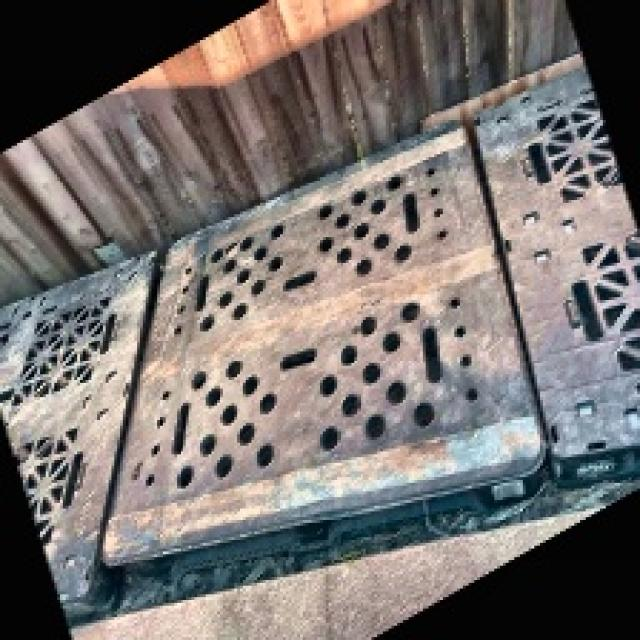igps: (91, 111, 556, 596), (466, 49, 640, 500), (0, 239, 172, 636)
